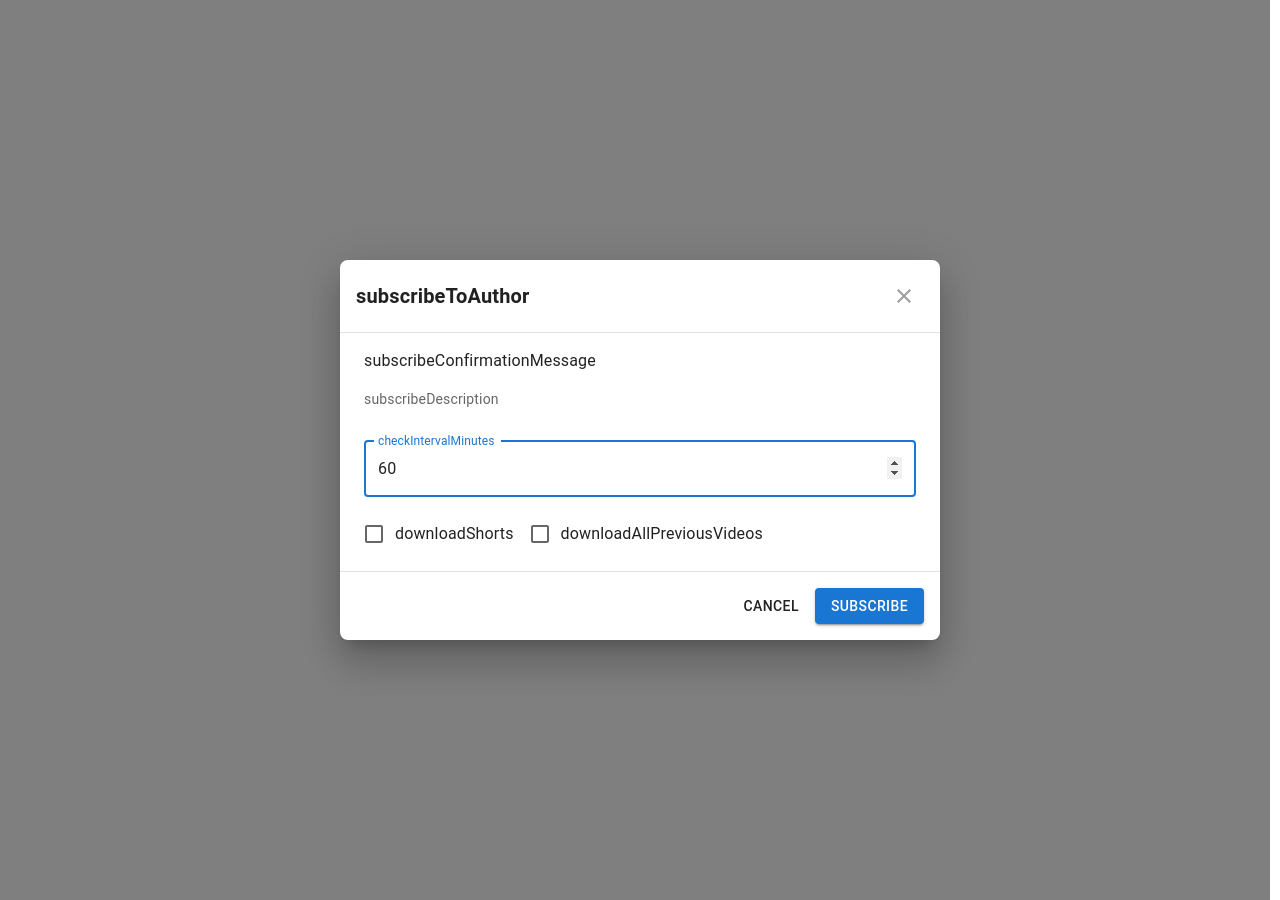
SubscribeModal › should handle input changes
Note: Change interval
Replace the text in the number field labelled "checkIntervalMinutes" with "120" at (640, 469), box [364,441,916,497]
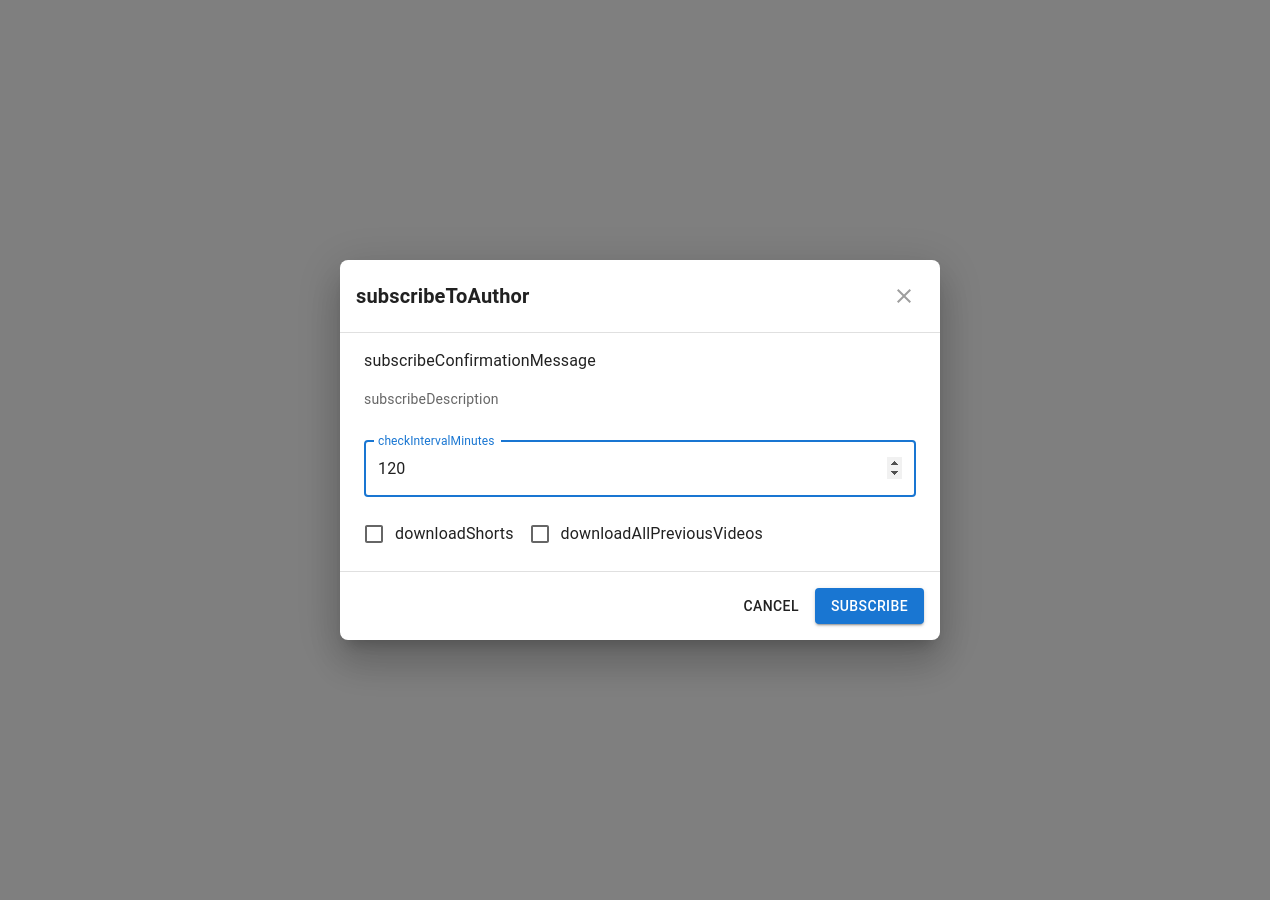
Note: Toggle checkbox
Click the checkbox labelled "downloadAllPreviousVideos".
click(645, 534)  # box [528,522,763,546]
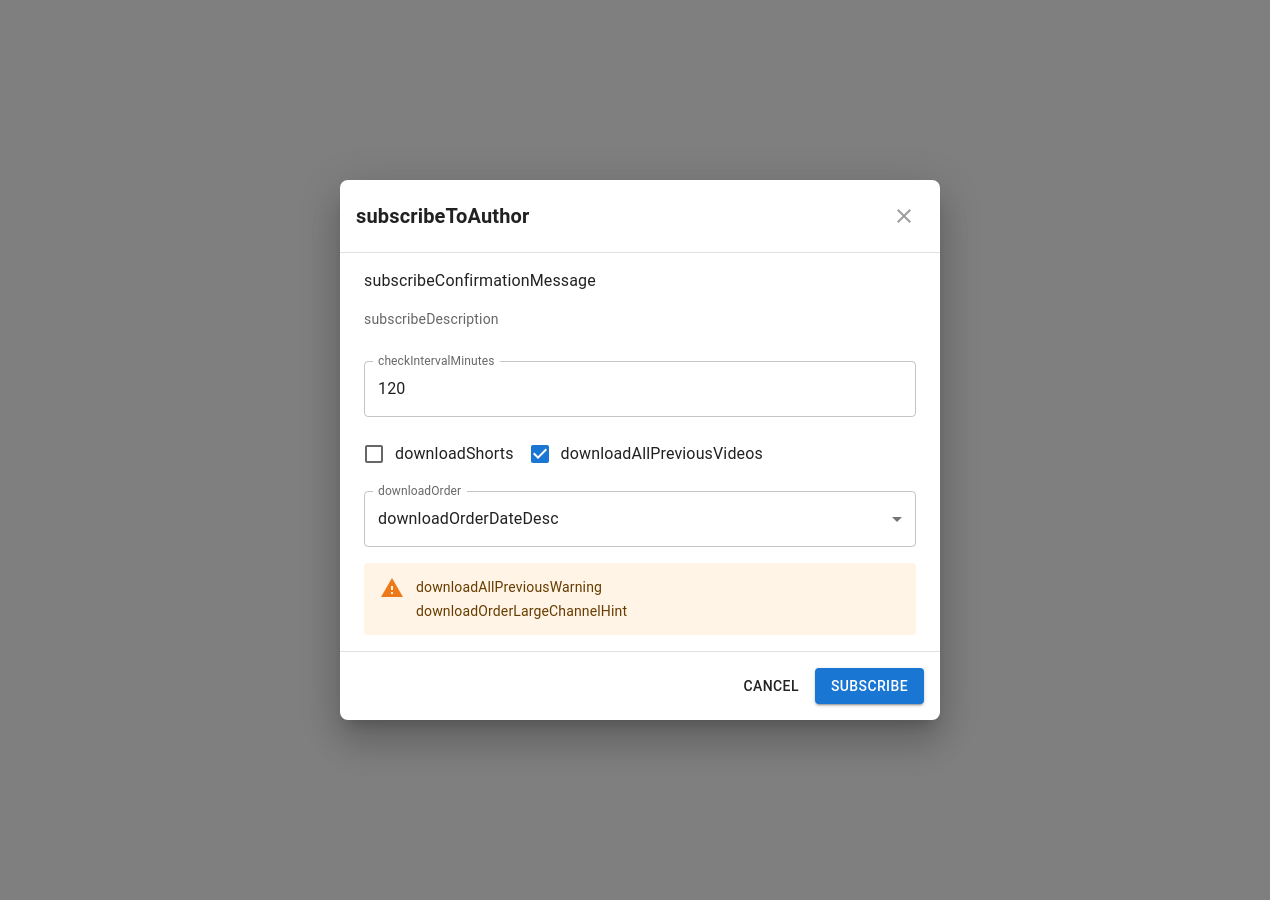
Check: the checkbox labelled "downloadAllPreviousVideos" is checked, box [528,442,763,466]
Check: the text "downloadAllPreviousWarning" is shown, box [416,577,627,597]
